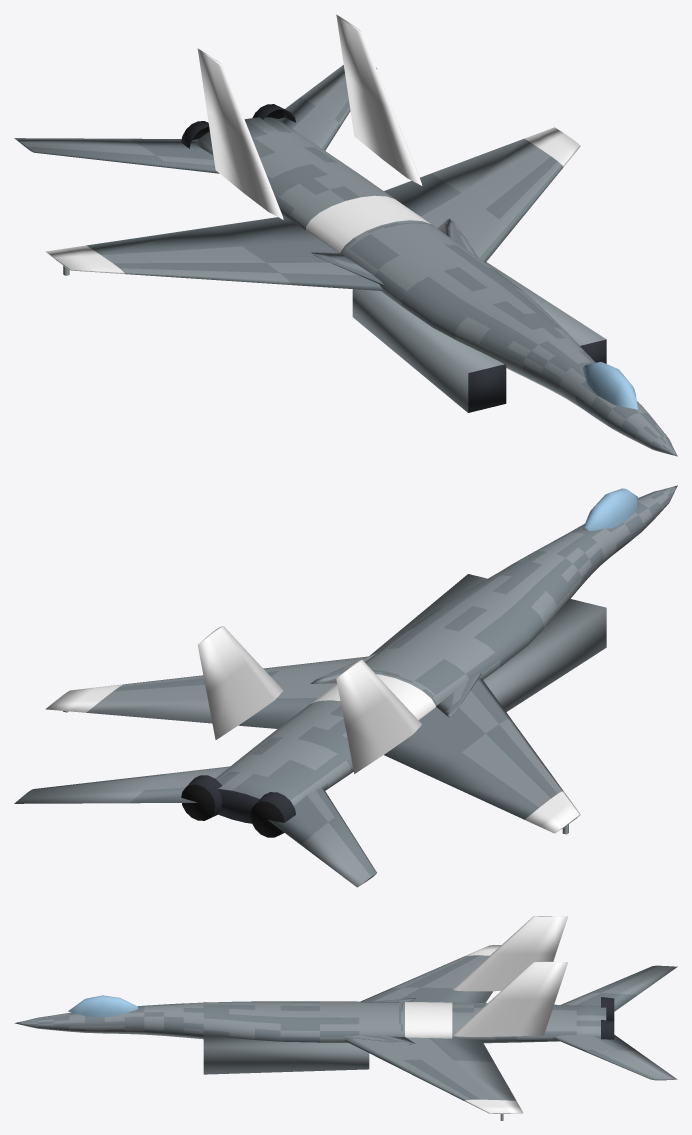
3 renders of one model, top to bottom at view 1: azimuth 30°, elevation 25°; view 2: azimuth 150°, elevation 25°; view 3: azimuth 270°, elevation 25°, orthographic. The views are drawn at different scales.
Parts seen in each view (by area): view 1: body; view 2: body; view 3: body.
Part boxes in pixels (x1,y1,x2,y2): body: (14, 14, 677, 456); body: (14, 485, 677, 887); body: (14, 916, 677, 1120).
Size of the model in its own units: 14.7 by 4.6 by 24.6.
